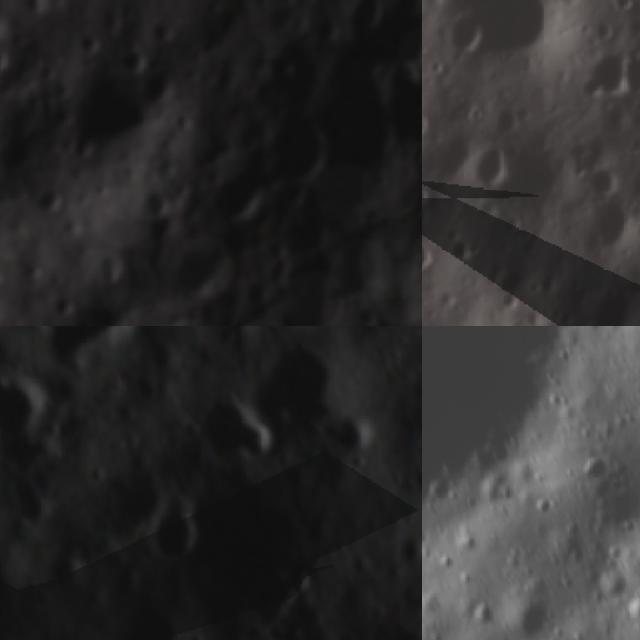crater: (422, 326, 593, 516), (301, 61, 415, 208), (233, 326, 367, 448), (173, 375, 285, 487), (440, 0, 566, 65), (132, 486, 214, 572), (256, 106, 331, 186), (78, 88, 160, 158), (16, 326, 138, 372), (325, 229, 393, 311), (578, 36, 637, 110), (318, 402, 387, 464), (206, 166, 272, 226), (36, 538, 102, 598), (364, 0, 422, 66), (422, 116, 475, 184), (462, 134, 520, 194), (389, 54, 422, 151), (269, 551, 329, 604), (0, 371, 41, 446), (590, 195, 640, 255), (506, 584, 558, 640), (175, 248, 224, 301), (441, 223, 483, 277), (584, 286, 639, 326), (580, 162, 624, 207), (139, 179, 179, 221), (309, 8, 346, 51), (388, 528, 422, 574), (618, 43, 640, 106), (141, 67, 180, 102), (33, 410, 68, 445), (403, 338, 422, 396), (38, 180, 67, 217), (464, 599, 501, 628), (77, 458, 106, 489), (422, 235, 441, 276), (177, 630, 206, 640)
